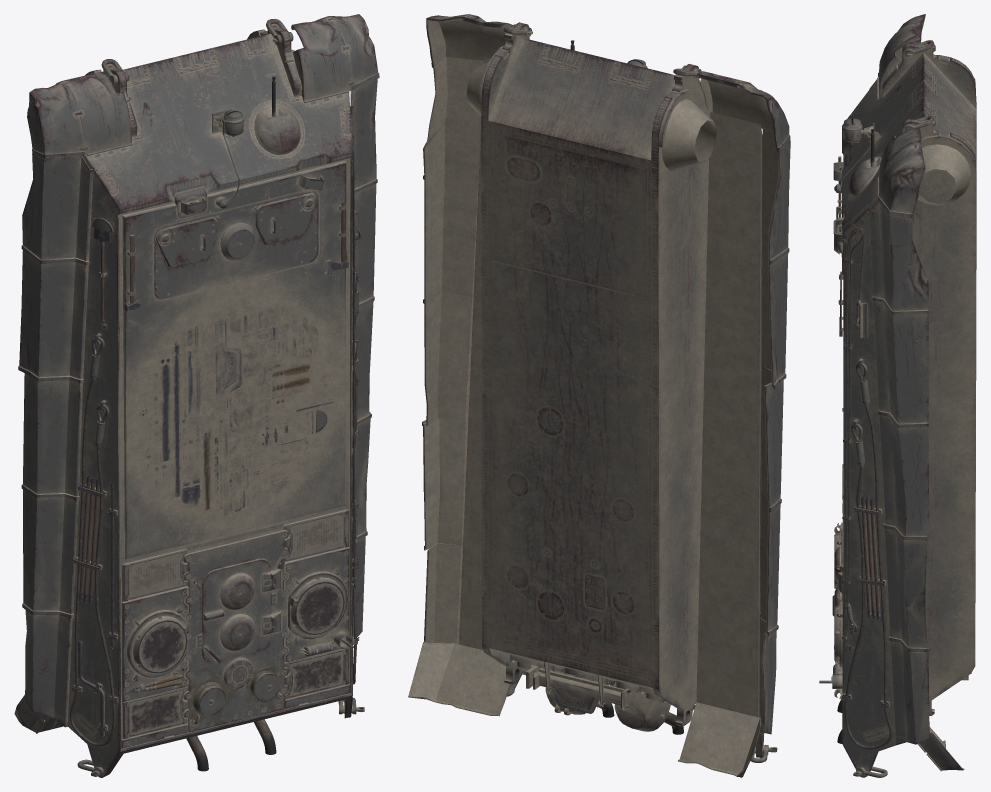
File: Hull.glb
The picture shows the model from 3 angles, left to right: view 1: azimuth 30°, elevation 25°; view 2: azimuth 150°, elevation 25°; view 3: azimuth 270°, elevation 25°; orthographic projection. The views are drawn at different scales.
Parts seen in each view (by area): view 1: set_0_group_0; view 2: set_0_group_0; view 3: set_0_group_0.
Boxes of the visible parts, x1,y1,x2,y2 form: set_0_group_0: (14,14,379,777); set_0_group_0: (408,14,790,777); set_0_group_0: (819,14,976,777).
Size of the model in its own units: 3.87 by 7.42 by 1.64.
Materials: 1 (1 with a texture image).
